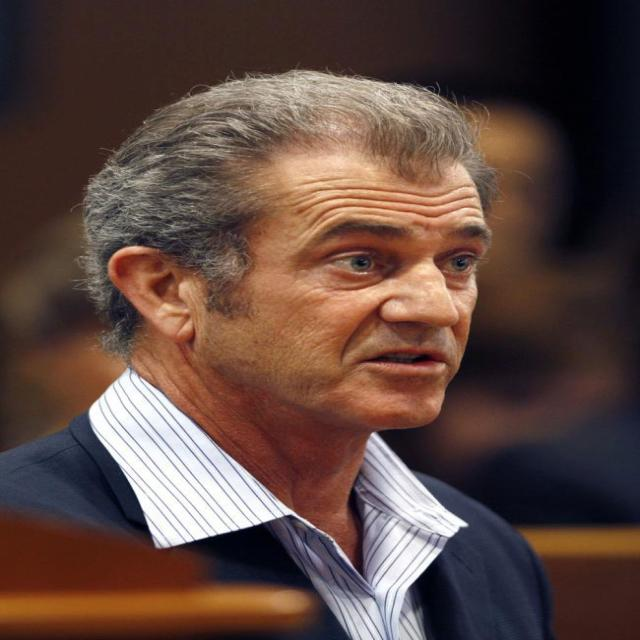no-earmuff: (98, 240, 222, 354)
